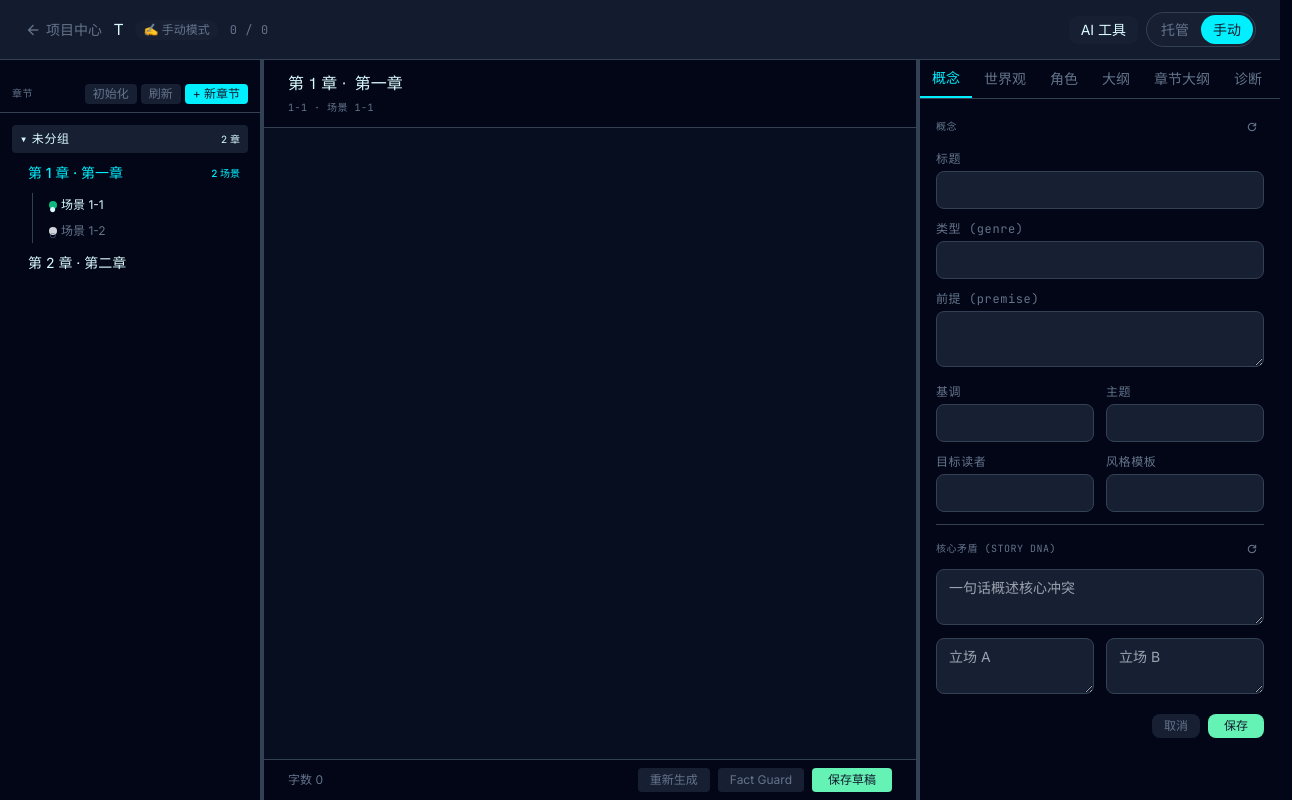
Test case: Workspace integration › manual mode refetches scene drafts when currentChapter changes
This screenshot has width=1292, height=800.
Expected: the text "●" is shown, [49,201,57,209]
Expected: the text with test id "scene-status-1-1" reads "●", [49,201,56,216]
# Click chapter 2 to switch — refetch should fire.
Click the button with test id "chapter-2" at (134, 263), box [20,247,248,279]
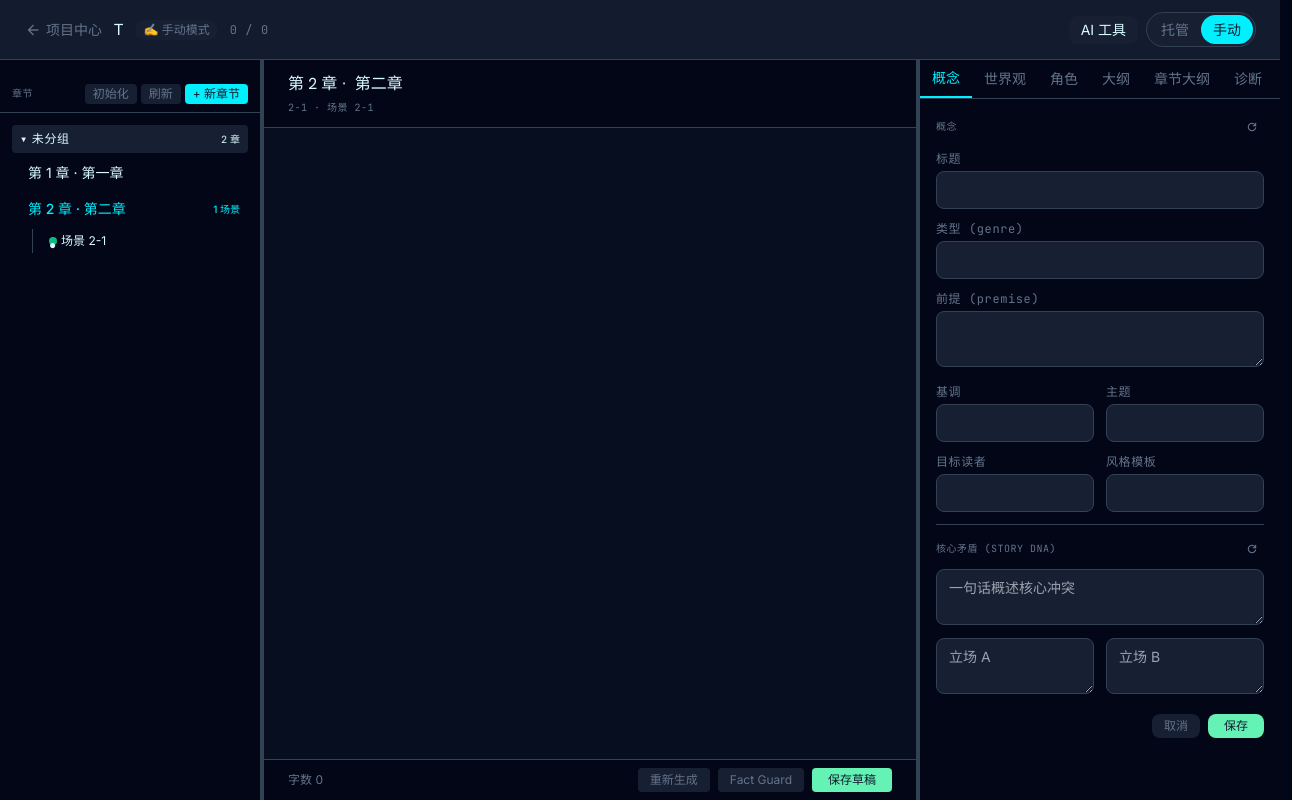
Expected: the text with test id "scene-status-2-1" reads "●", [49,237,56,252]
Expected: the text "●" is shown, [49,237,57,245]
Expected: the text with test id "scene-status-1-1" is gone
